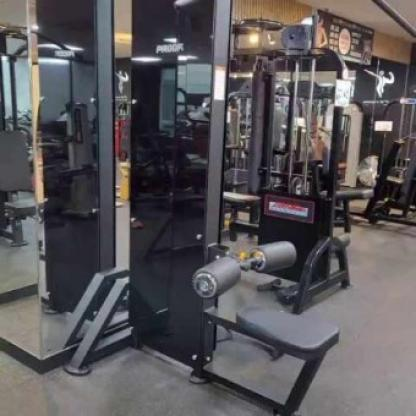Lat Pull Down: (0, 0, 359, 416)
